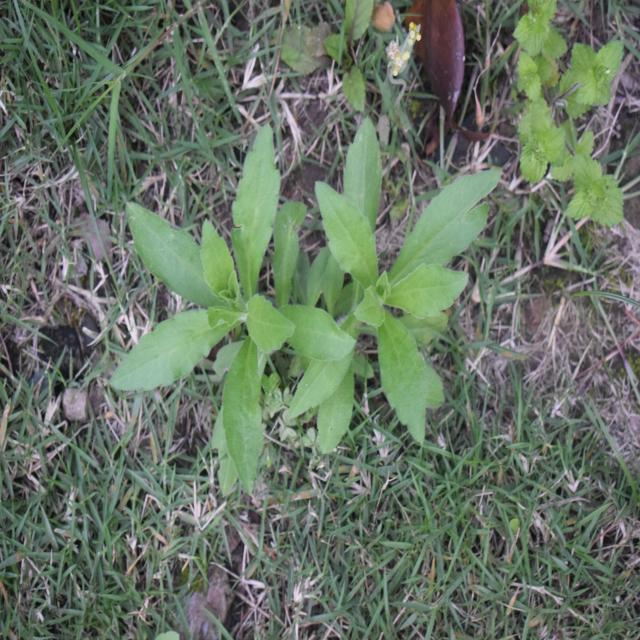horseweed: (121, 130, 302, 482), (294, 136, 492, 437)
